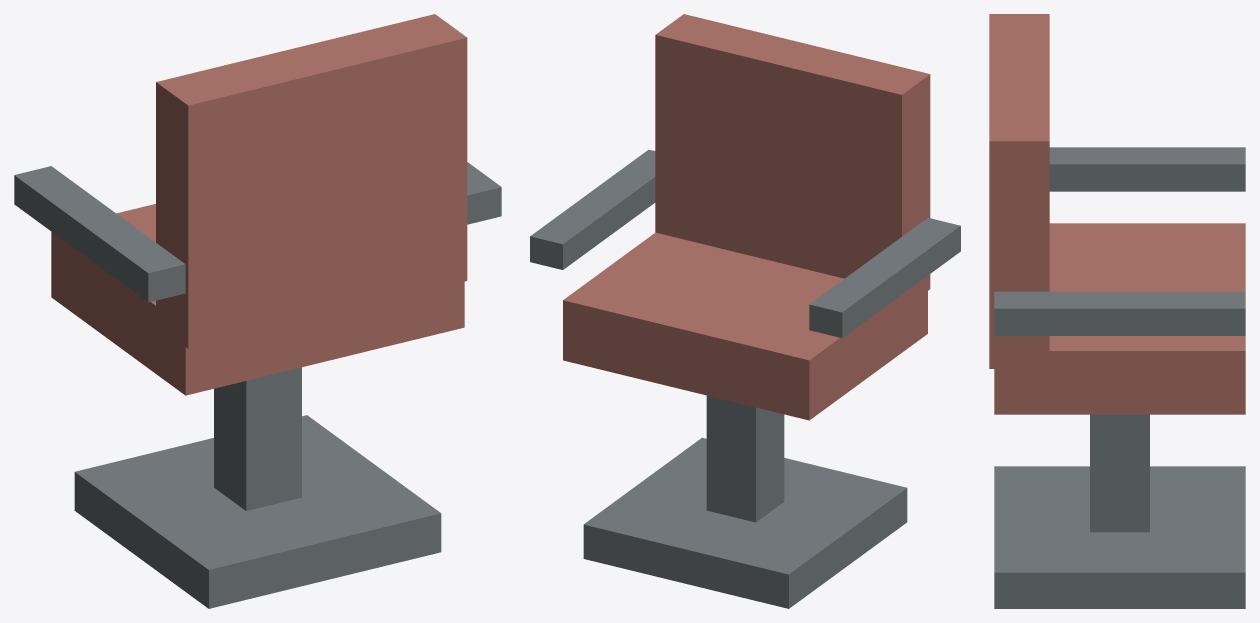
Rendered from barber_chair.glb.
The picture shows the model from 3 angles, left to right: view 1: azimuth 30°, elevation 25°; view 2: azimuth 150°, elevation 25°; view 3: azimuth 270°, elevation 25°; orthographic projection. The views are drawn at different scales.
Visible parts, largest first — view 1: body; view 2: body; view 3: body.
Part boxes in pixels (x1,y1,x2,y2): body: (14,14,501,608); body: (530,14,960,608); body: (989,14,1245,608).
Size of the model in its own units: 0.76 by 1.05 by 0.51.
